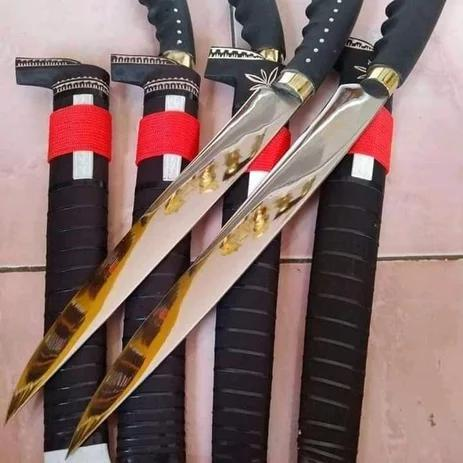facao: (70, 0, 445, 454), (8, 0, 362, 411)
